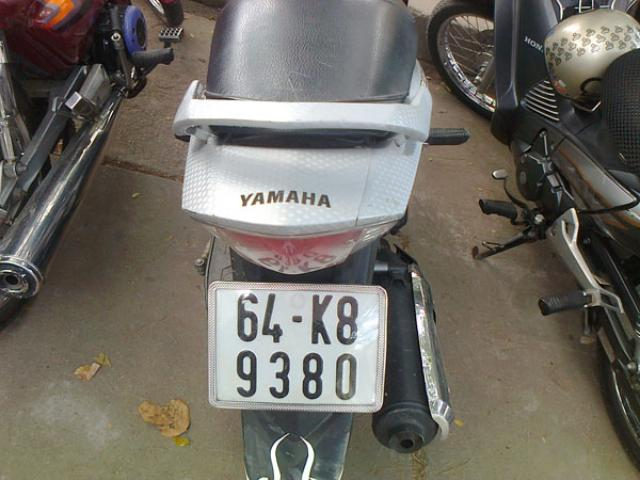plate: (210, 277, 386, 413)
